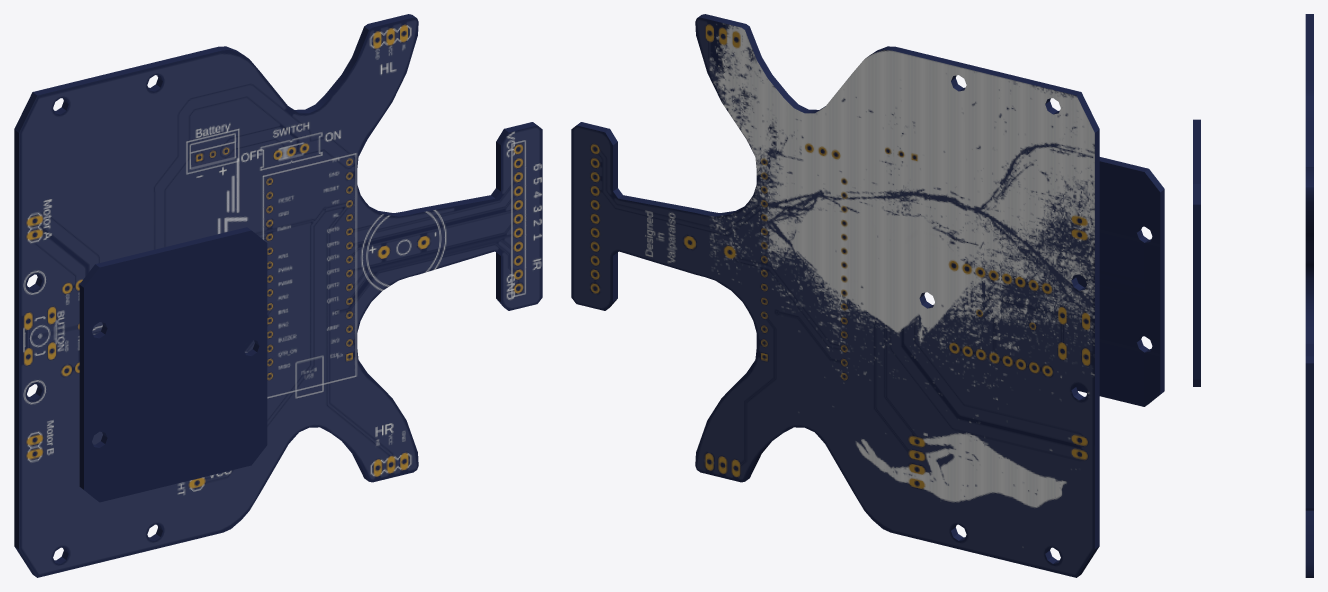
File: Main_PCB.obj
3 renders of one model, left to right at view 1: azimuth 30°, elevation 25°; view 2: azimuth 150°, elevation 25°; view 3: azimuth 270°, elevation 25°, orthographic. The views are drawn at different scales.
Visible parts, largest first — view 1: Main_PCB, Battery_PCB; view 2: Main_PCB, Battery_PCB; view 3: Main_PCB, Battery_PCB.
Boxes of the visible parts, x1,y1,x2,y2 form: Main_PCB: [14, 14, 542, 577]; Battery_PCB: [79, 227, 267, 502]; Main_PCB: [571, 14, 1099, 577]; Battery_PCB: [1076, 157, 1164, 406]; Main_PCB: [1305, 14, 1313, 577]; Battery_PCB: [1193, 119, 1200, 386].
Bounding box in the file's own units: 0.1 × 0.088 × 0.0231.
